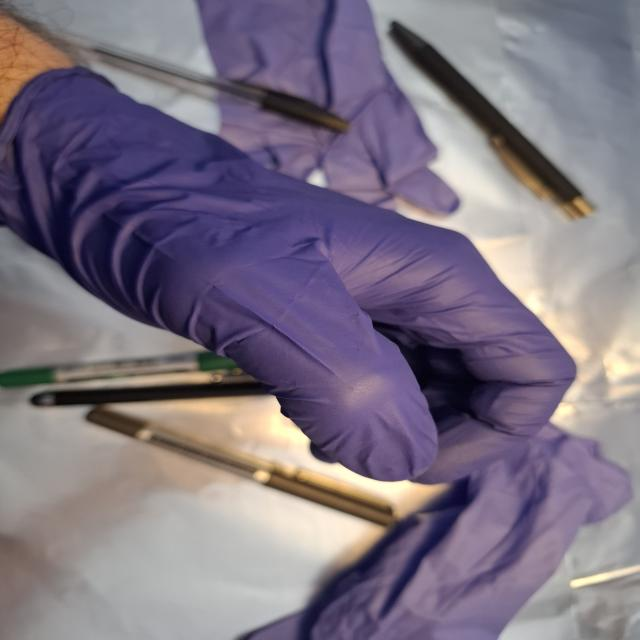glove_on: (0, 61, 583, 488)
